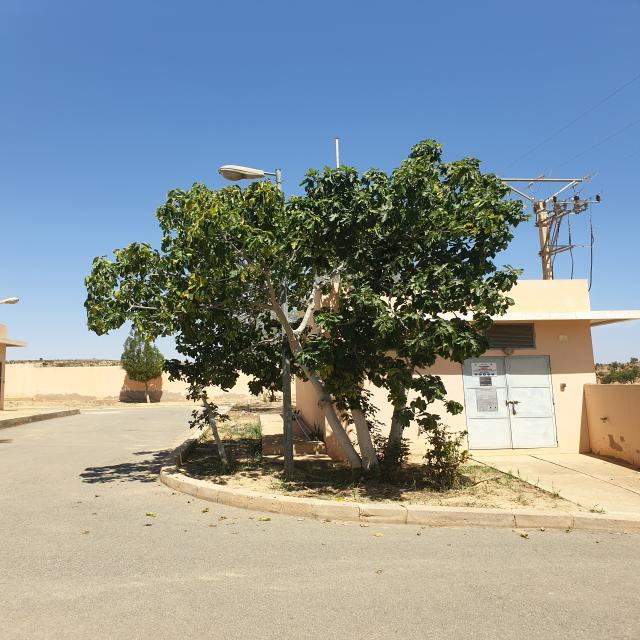Tree: (85, 140, 526, 468)
